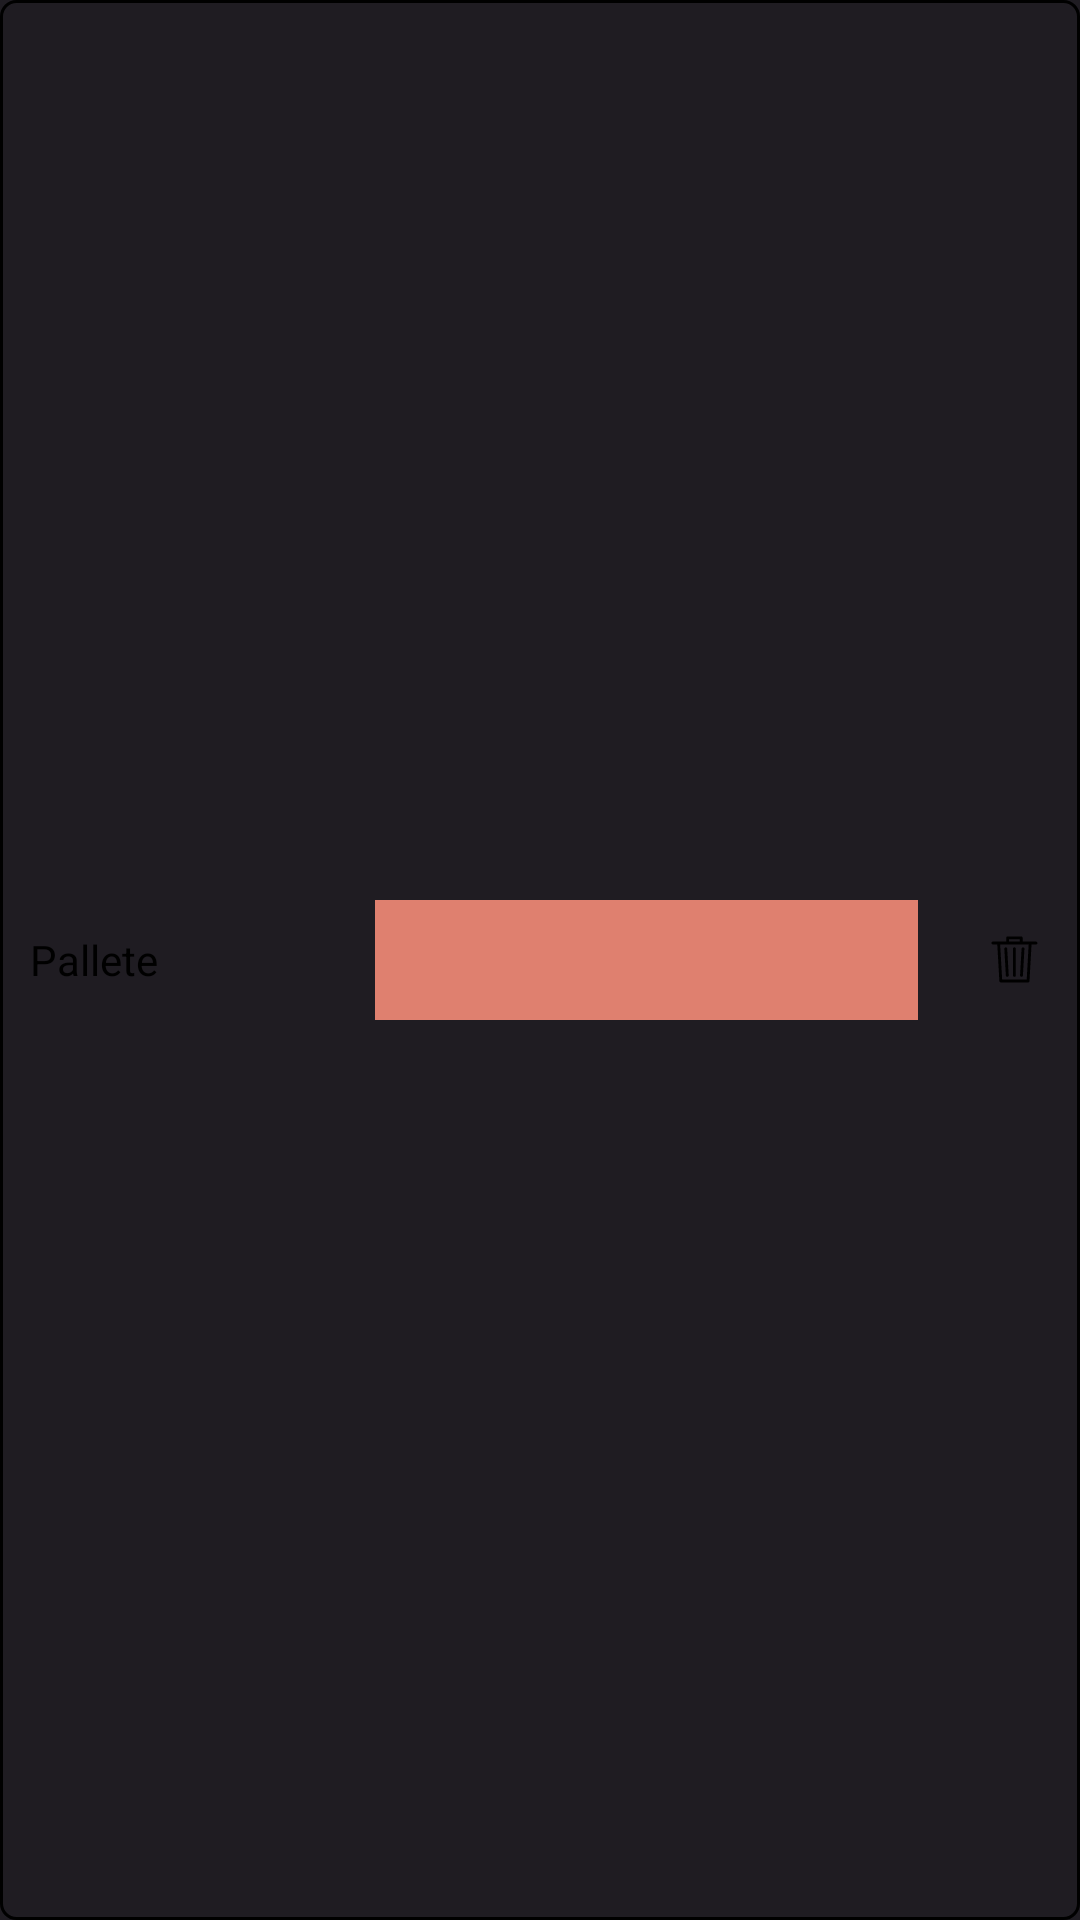

Icon click points for this 1080 × 1920 phone screenshot, format (x=x, y=y):
trash bin: (x=1014, y=959)
